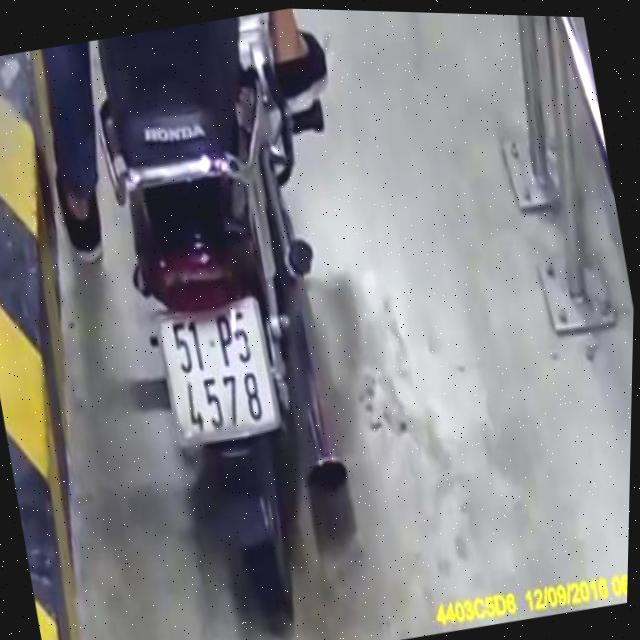motorcycle: (66, 4, 397, 640)
plate: (150, 290, 294, 456)
